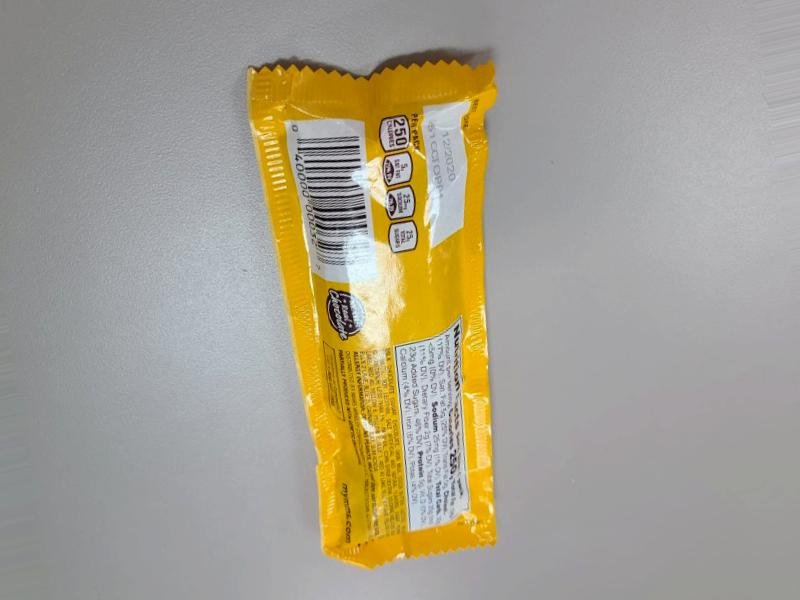m&m: (274, 0, 487, 536)
